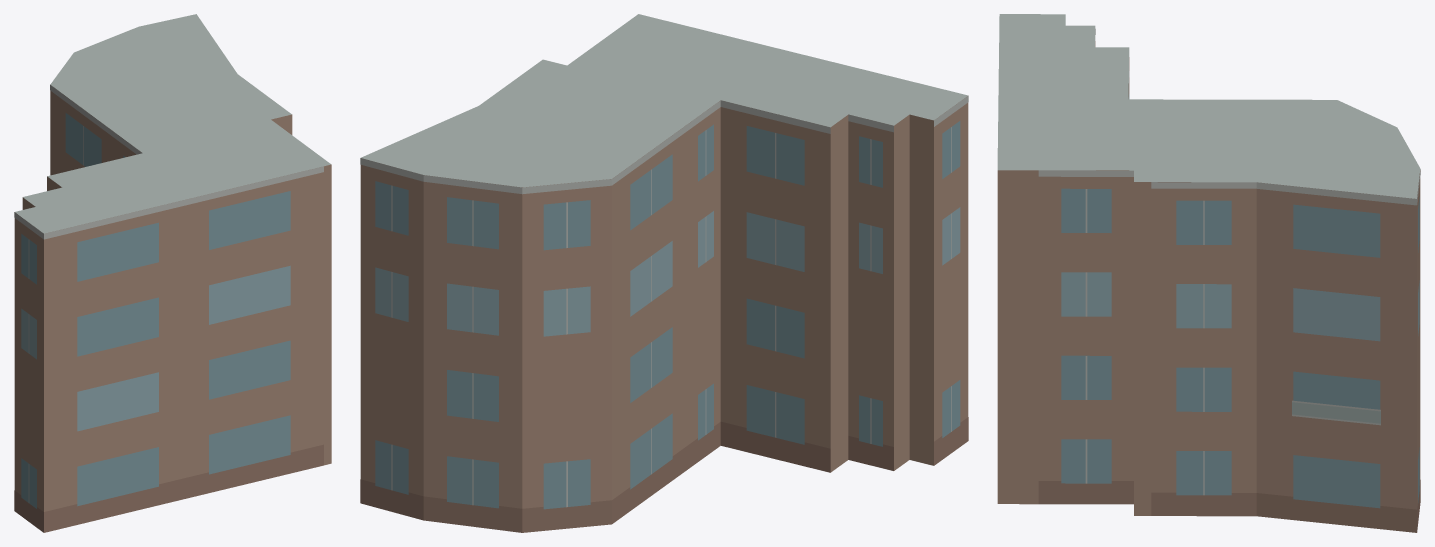
File: survey-upis-32469929.glb
3 renders of one model, left to right at view 1: azimuth 30°, elevation 25°; view 2: azimuth 150°, elevation 25°; view 3: azimuth 270°, elevation 25°, orthographic. The views are drawn at different scales.
Parts seen in each view (by area): view 1: survey-upis-32469929.tmp; view 2: survey-upis-32469929.tmp; view 3: survey-upis-32469929.tmp.
Part boxes in pixels (box(x1,y1,x2,y2)): survey-upis-32469929.tmp: box(14, 14, 331, 532); survey-upis-32469929.tmp: box(360, 14, 968, 532); survey-upis-32469929.tmp: box(997, 14, 1420, 532).
Bounding box in the file's own units: 14.86 × 12.5 × 14.36.
